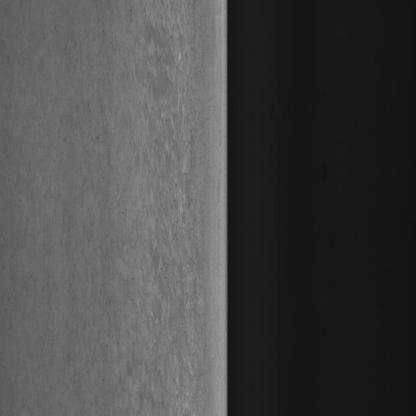silk_spot: (120, 28, 200, 394)
